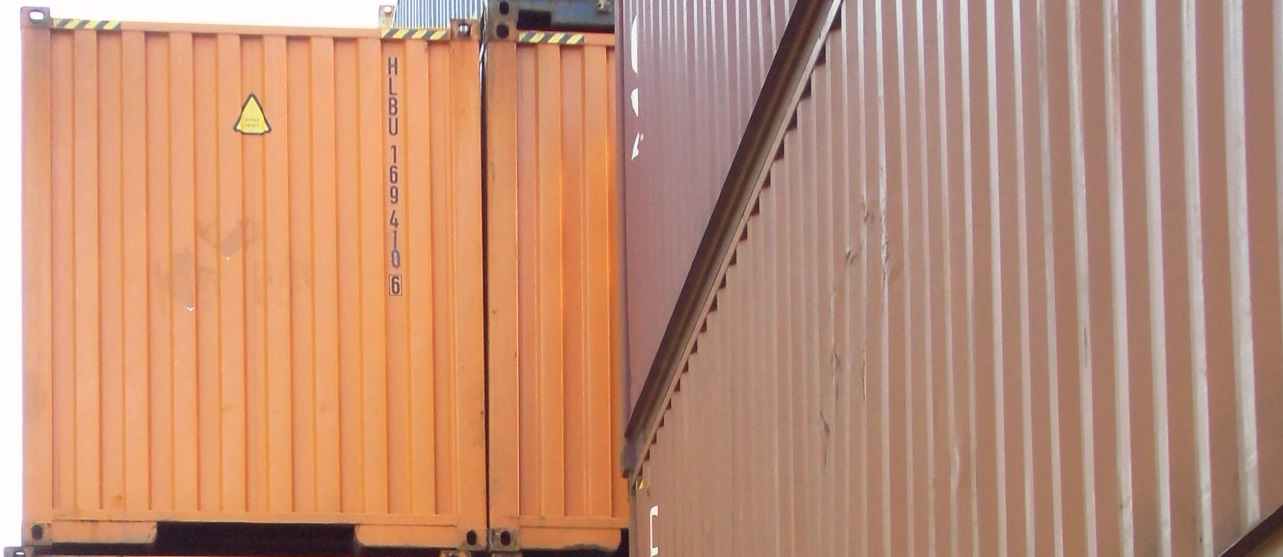container_no_door: (24, 5, 490, 557)
